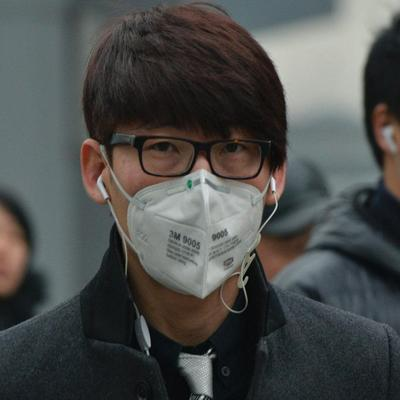Face_Mask_Found: (100, 166, 270, 301)
